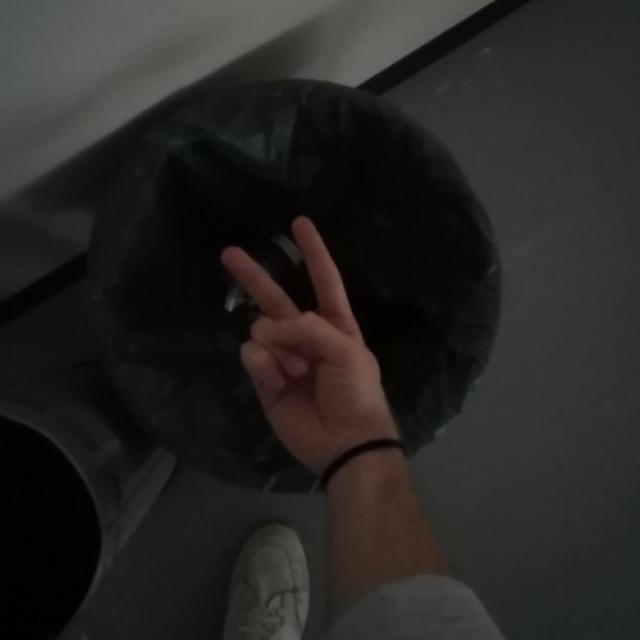scissors: (221, 210, 390, 434)
